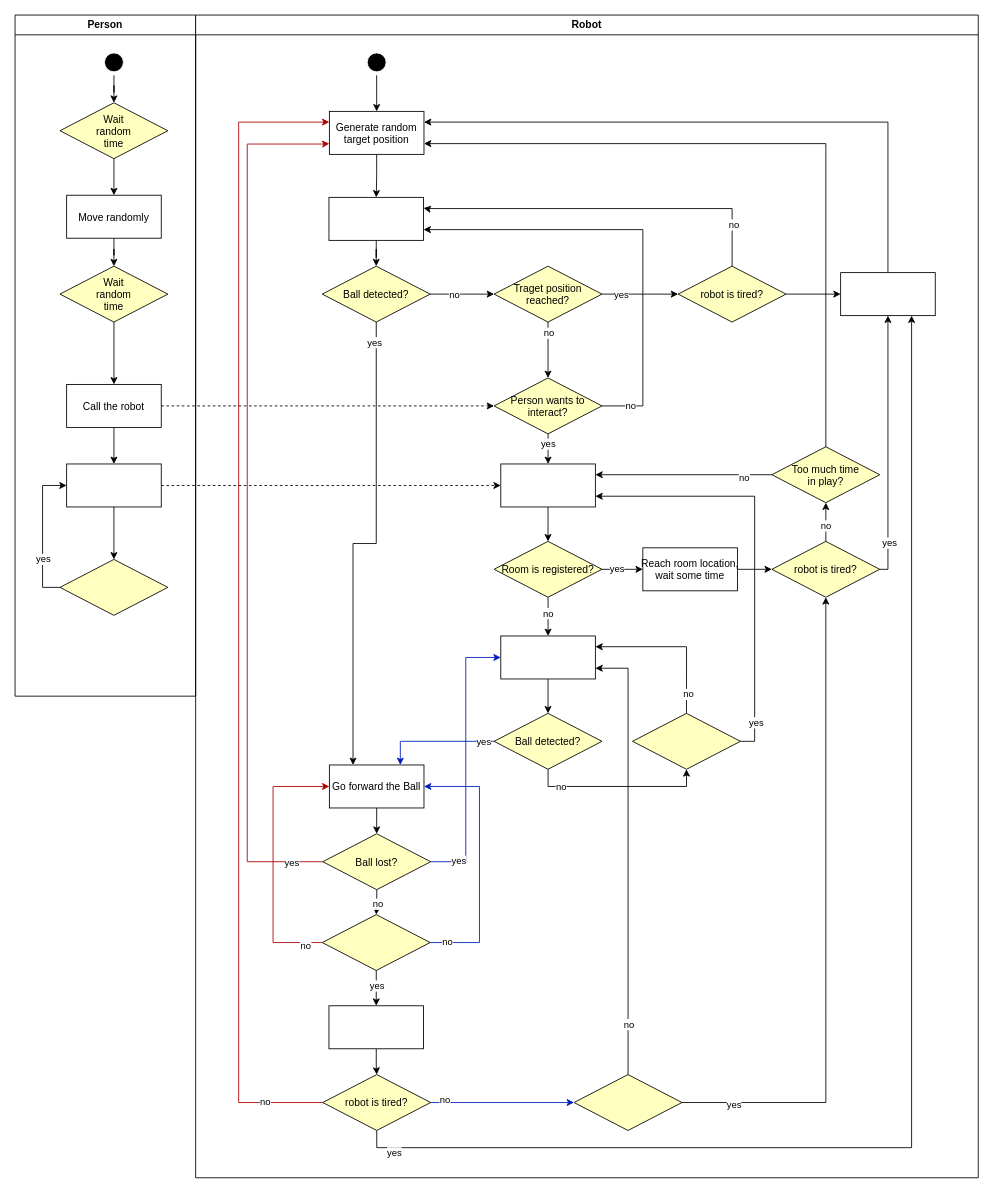
The diagram is 993 pixels wide and 1193 high, and some of its shapes have lost their labels. Here are the shapes that lost their labels. From the top down, the centre of each, then its label:
point (376, 218): Move toward target
point (887, 294): Go to Rest
point (113, 485): Select a room randomly
point (547, 485): Reach person, wait for command
point (113, 587): Robot has come back?
point (547, 657): Exlore the environment
point (686, 741): Too muich time exploring?
point (375, 942): Ball reached?
point (376, 1027): Register corresponding room
point (627, 1102): Was the room of interest?
